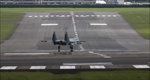maybay_muctieu: (41, 33, 82, 53)
